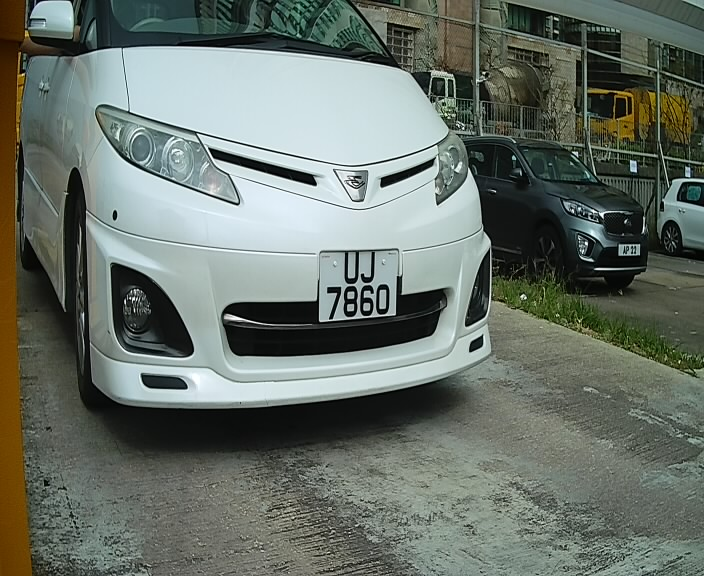License Plate: (310, 242, 409, 331)
